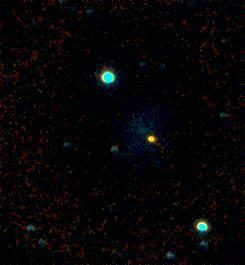star: (137, 123, 167, 153)
